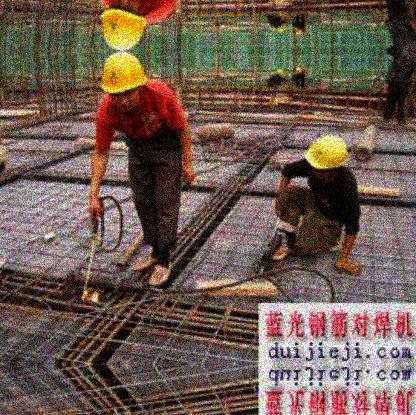helmet: (99, 54, 149, 110), (99, 1, 152, 53), (304, 136, 349, 183)
